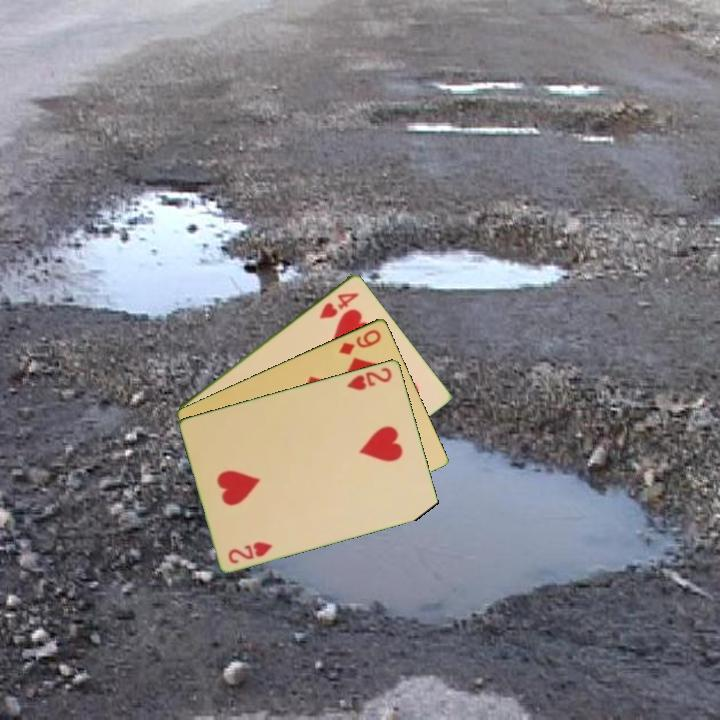2h: (343, 363, 395, 393), (225, 537, 276, 566)
4h: (316, 288, 362, 321)
9d: (335, 325, 384, 358)
